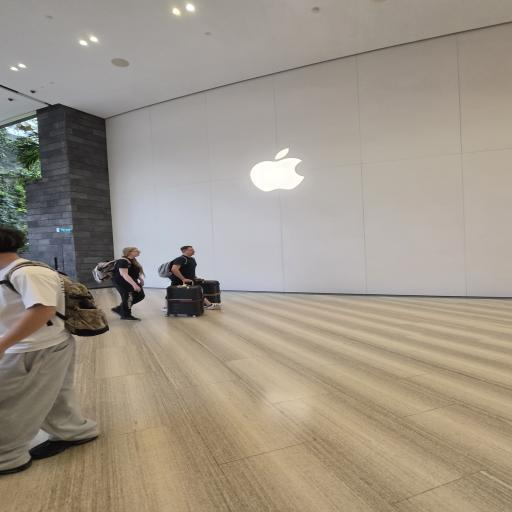person_left: (0, 223, 82, 459)
person_right: (92, 242, 150, 315)
person_with_luggage_right: (160, 240, 224, 316)
